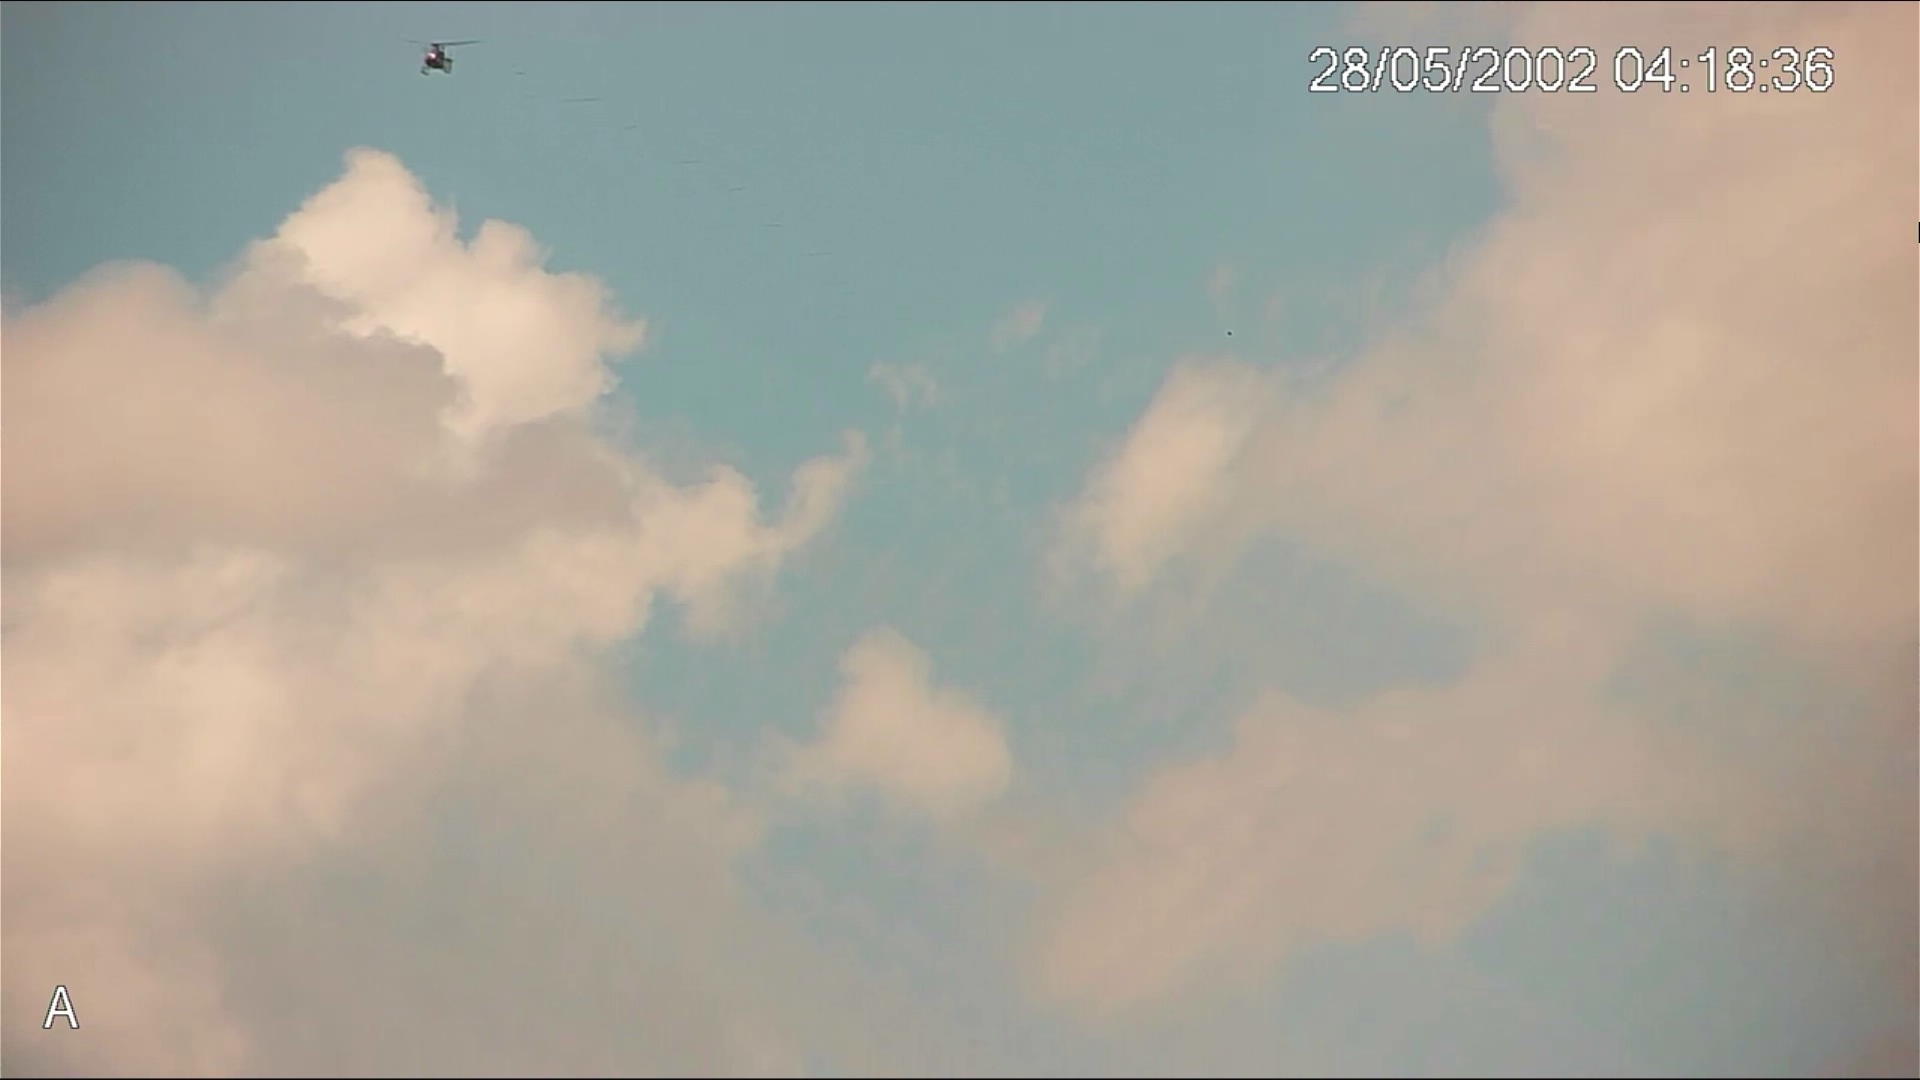SU_30: (417, 40, 456, 76)
